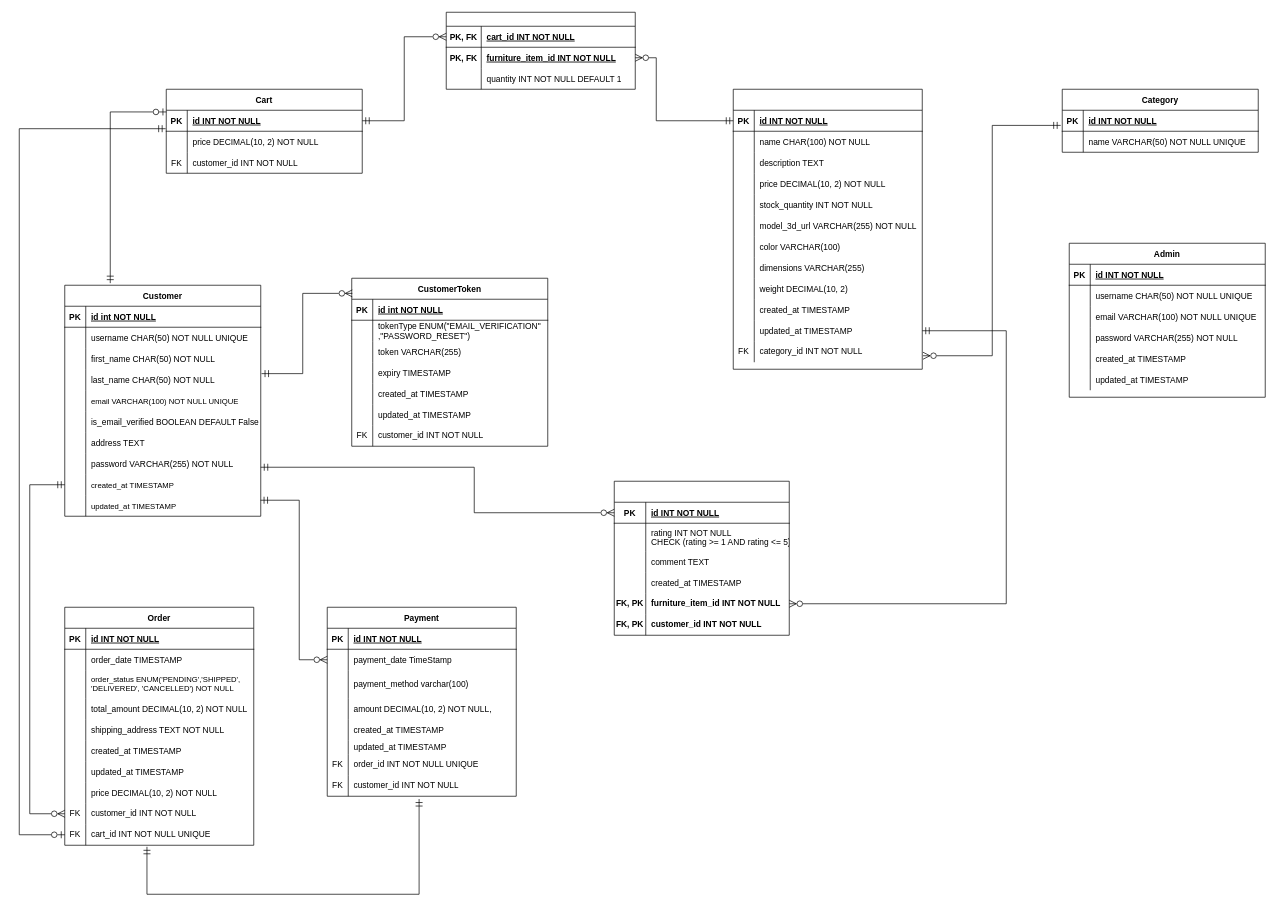
Some shapes in this 1278 by 914 pixel diagram are drawn without their labels. The shapes that lost their labels are listed below. From the top down, each one's box as (x1, y1, x2, y2) in pixels, then its label:
(446, 12, 635, 89): CartItem
(733, 89, 922, 369): FurnitureItem
(614, 481, 789, 635): Review
